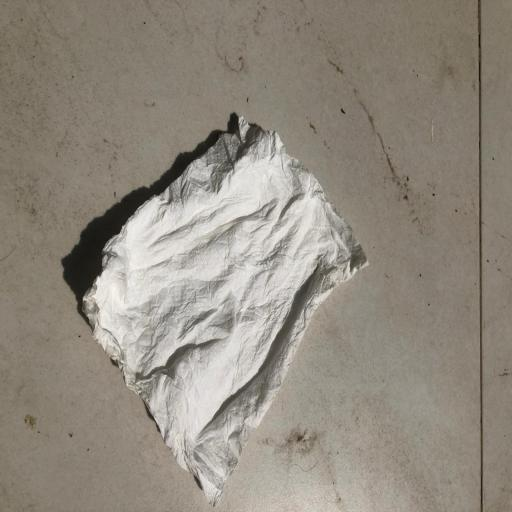waste: (70, 105, 372, 508)
